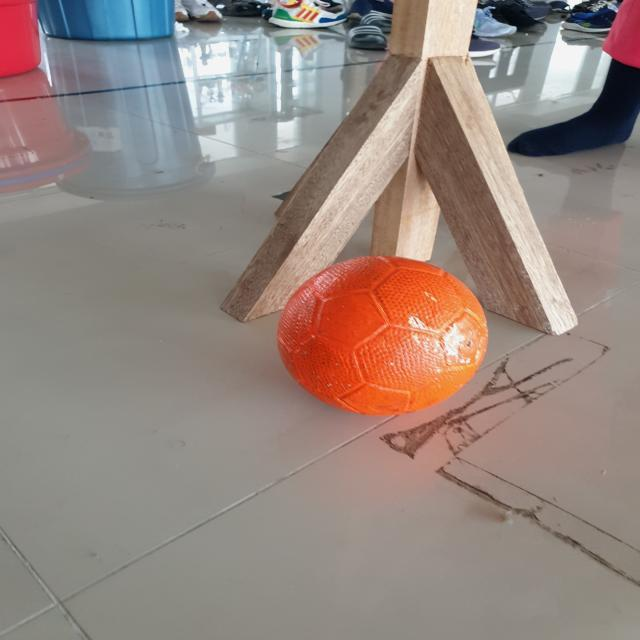bola: (237, 246, 494, 422)
